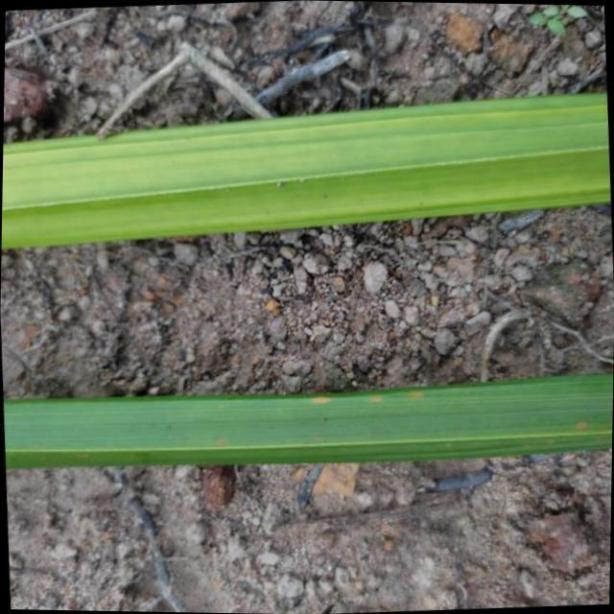nitrogen: (0, 96, 614, 248), (0, 371, 614, 467)
